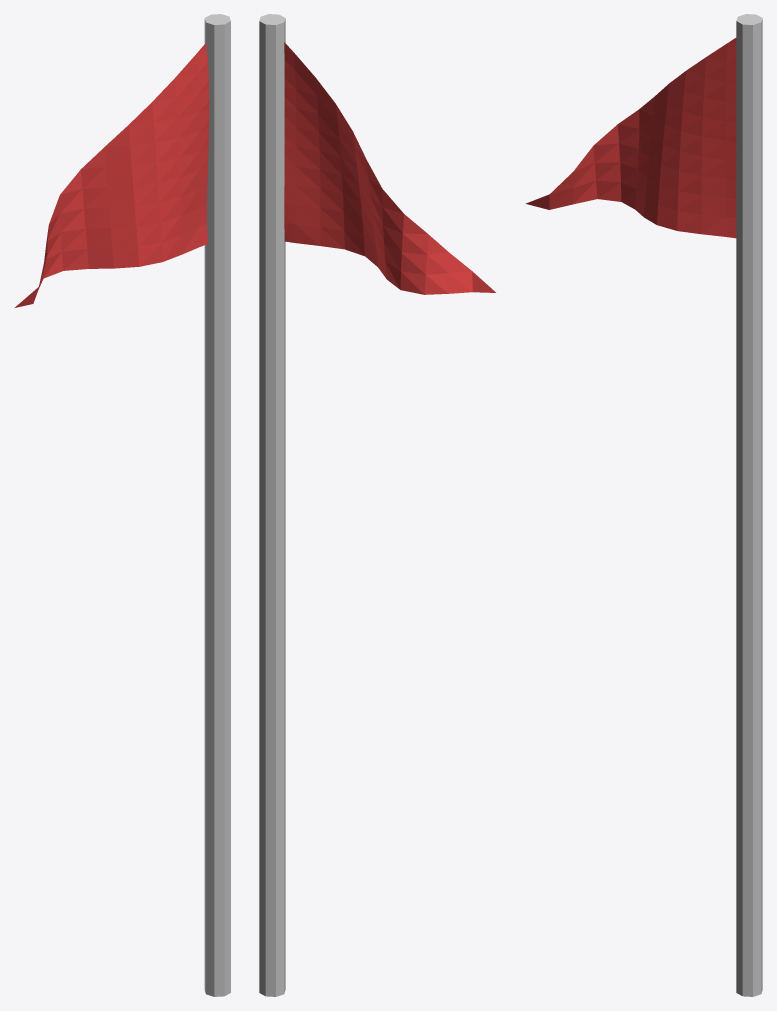
3 views of the same model, side by side, from view 1: azimuth 30°, elevation 25°; view 2: azimuth 150°, elevation 25°; view 3: azimuth 330°, elevation 25° (orthographic).
Parts seen in each view (by area): view 1: Cylinder_001_6_0, Plane; view 2: Cylinder_001_6_0, Plane; view 3: Cylinder_001_6_0, Plane.
Part boxes in pixels (<box>): Cylinder_001_6_0: <box>204,14,230,996</box>; Plane: <box>15,42,209,307</box>; Cylinder_001_6_0: <box>259,14,285,996</box>; Plane: <box>284,42,495,294</box>; Cylinder_001_6_0: <box>736,14,762,996</box>; Plane: <box>525,38,736,238</box>.
Size of the model in its own units: 0.5284 by 2.17 by 0.0986.
